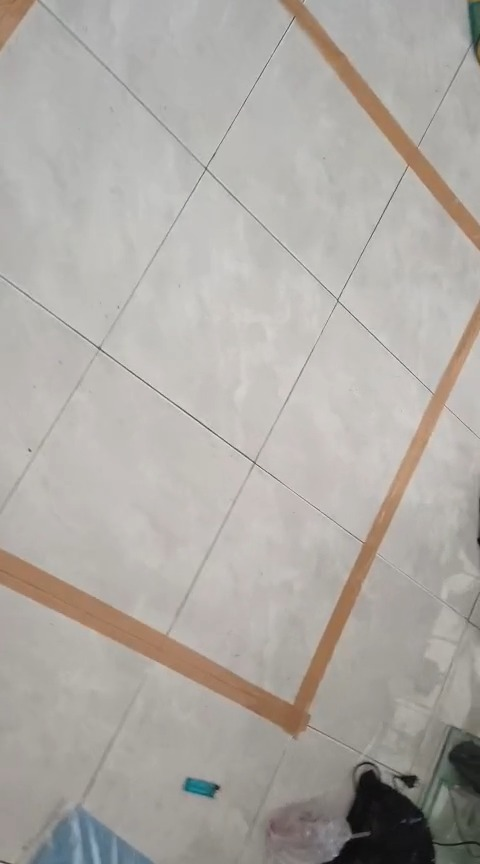floor marking: (0, 301, 479, 734), (279, 0, 479, 251), (0, 0, 38, 50)
